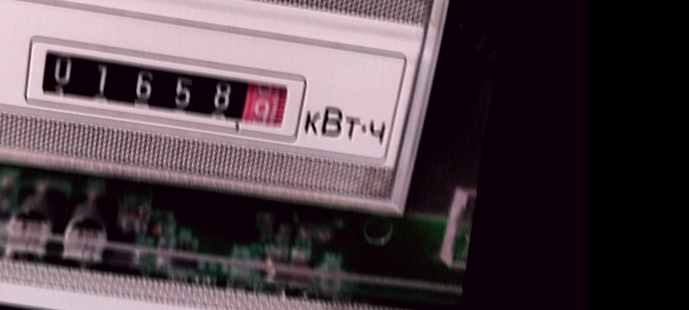0: (52, 52, 78, 87)
1: (95, 63, 113, 95)
5: (174, 75, 198, 110)
6: (135, 68, 159, 102)
8: (213, 79, 237, 113)
9: (252, 97, 273, 125)
screen: (16, 28, 315, 148)
